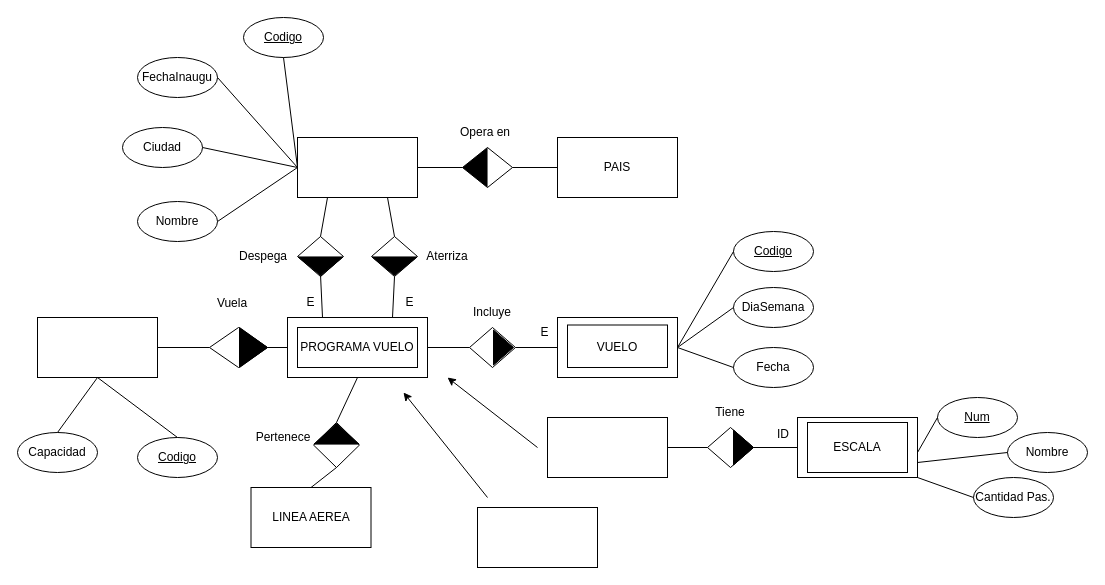
The diagram is 1105 pixels wide and 585 high, and some of its shapes have lost their labels. The centre of each missing label's shape, as x and y in pixels:
AEROPUERTO: the point at 357,167
CON ESCALAS: the point at 607,447
DIRECTO: the point at 537,537
MODELO AVION: the point at 97,347
